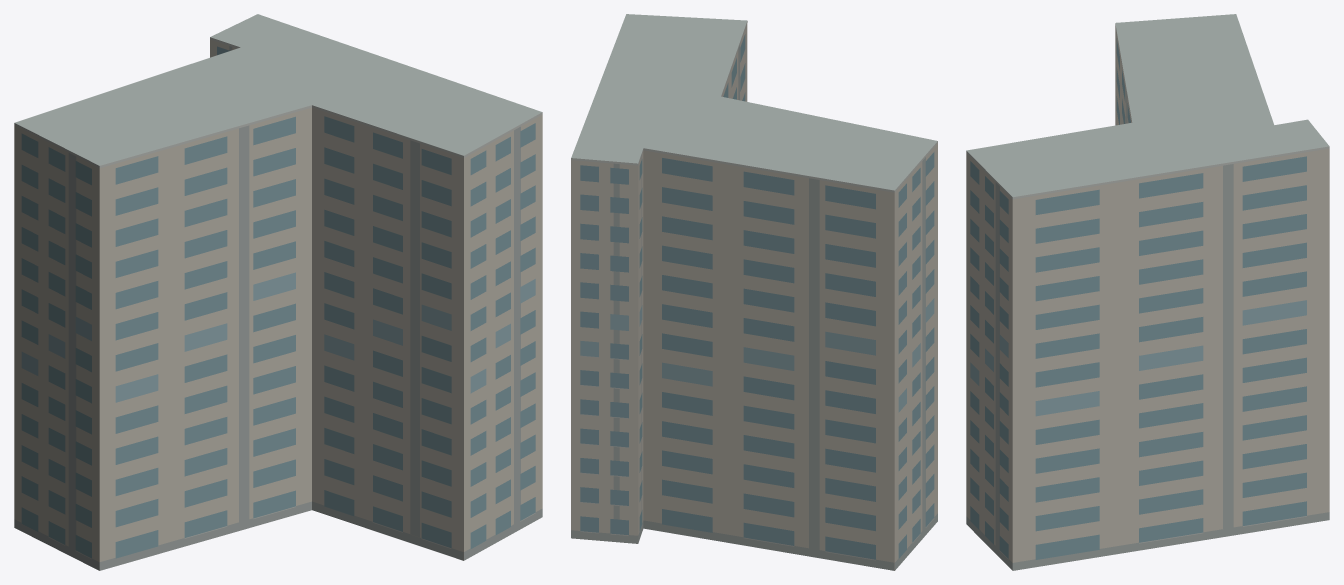
The model's file is residential-20a3d0ad-6166-4128-a101-d1c6b62ddc81.glb.
3 renders of one model, left to right at view 1: azimuth 30°, elevation 25°; view 2: azimuth 150°, elevation 25°; view 3: azimuth 270°, elevation 25°, orthographic. The views are drawn at different scales.
Visible parts, largest first — view 1: residential-20a3d0ad-6166-4128-a101-d1c6b62ddc81.tmp; view 2: residential-20a3d0ad-6166-4128-a101-d1c6b62ddc81.tmp; view 3: residential-20a3d0ad-6166-4128-a101-d1c6b62ddc81.tmp.
Boxes of the visible parts, x1=… form: residential-20a3d0ad-6166-4128-a101-d1c6b62ddc81.tmp: x1=14, y1=14, x2=542, y2=570; residential-20a3d0ad-6166-4128-a101-d1c6b62ddc81.tmp: x1=571, y1=14, x2=937, y2=570; residential-20a3d0ad-6166-4128-a101-d1c6b62ddc81.tmp: x1=966, y1=14, x2=1329, y2=570.
Bounding box in the file's own units: 45.23 × 43 × 37.9.
